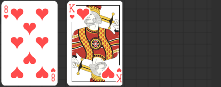8H: (49, 66, 56, 82)
